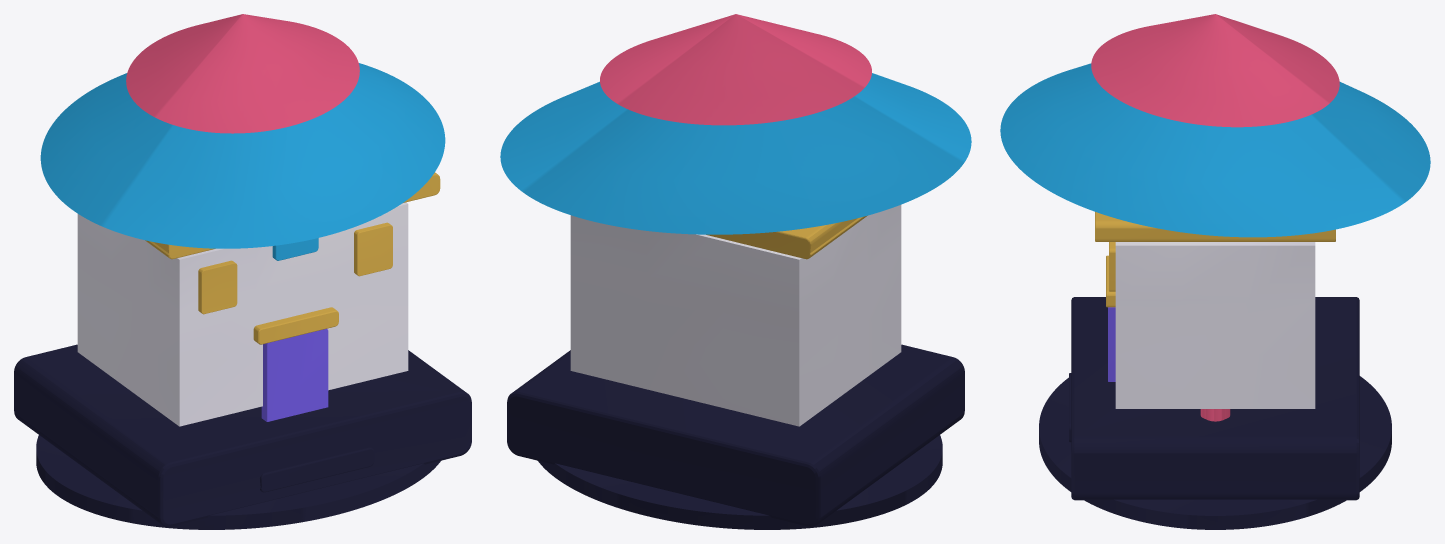
Rendered from 0796_中国建筑图鉴_吊脚楼.glb.
3 renders of one model, left to right at view 1: azimuth 30°, elevation 25°; view 2: azimuth 150°, elevation 25°; view 3: azimuth 270°, elevation 25°, orthographic. The views are drawn at different scales.
Visible parts, largest first — view 1: card_0796; view 2: card_0796; view 3: card_0796.
Part boxes in pixels (box(x1,y1,x2,y2)): card_0796: box(14, 14, 471, 529); card_0796: box(500, 14, 971, 529); card_0796: box(1000, 14, 1430, 529).
Bounding box in the file's own units: 0.9128 × 1 × 0.9128.
